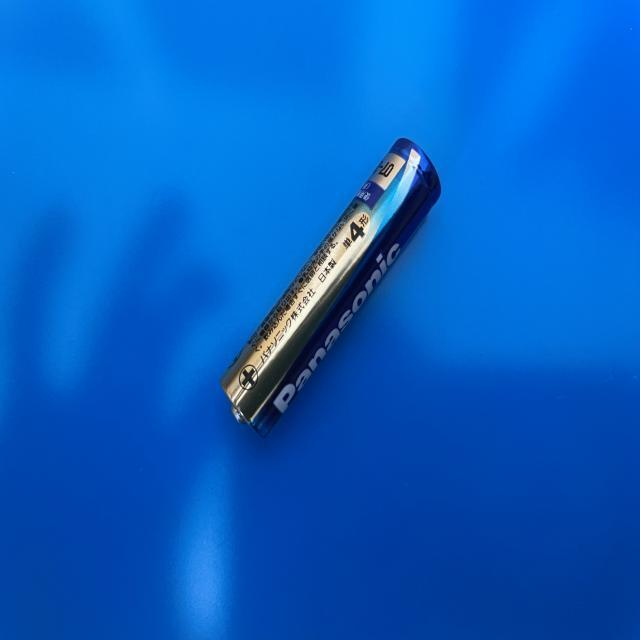AAA: (220, 137, 440, 441)
